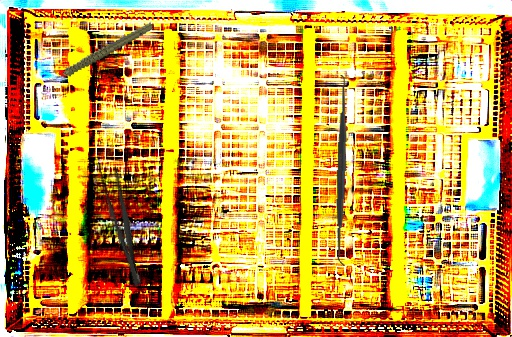Dressing Forceps: (94, 157, 149, 289)
Handpiece: (41, 21, 160, 83)
Spatula Surgical: (328, 75, 356, 266)
